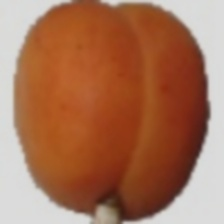apricot: (41, 19, 205, 197)
